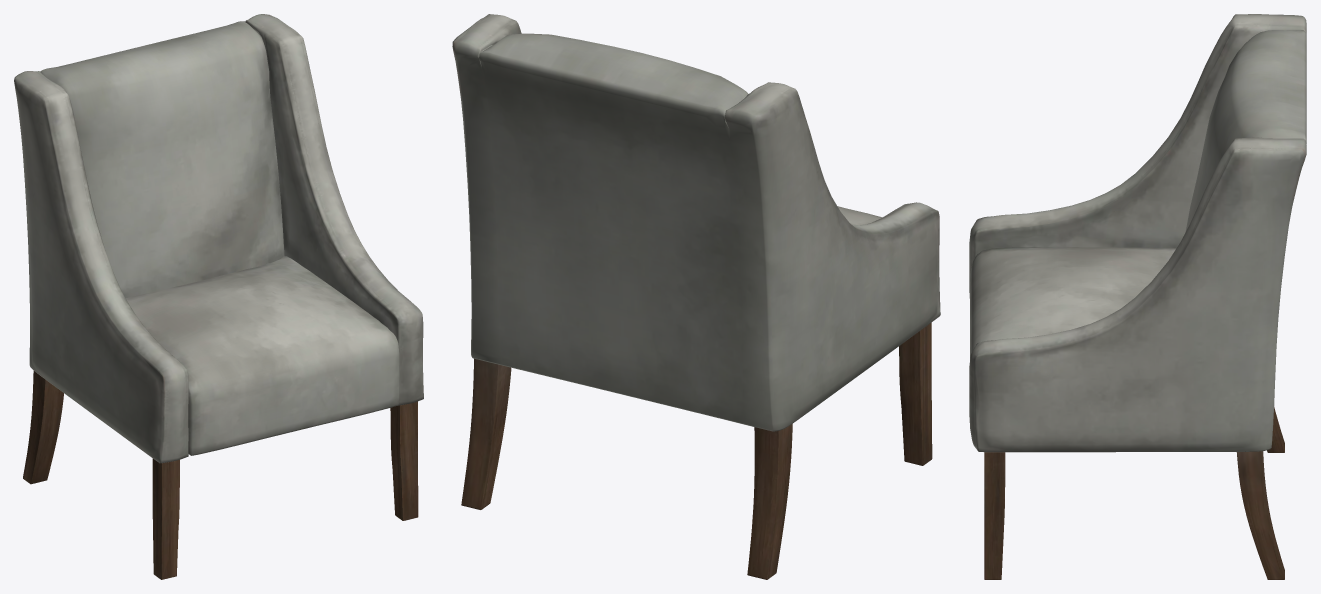
Rendered from B07F4D1TDW.glb.
3 views of the same model, side by side, from view 1: azimuth 30°, elevation 25°; view 2: azimuth 150°, elevation 25°; view 3: azimuth 270°, elevation 25° (orthographic). The views are drawn at different scales.
Visible parts, largest first — view 1: B07F4D1TDW; view 2: B07F4D1TDW; view 3: B07F4D1TDW.
Boxes of the visible parts, bbox=[...] form: B07F4D1TDW: bbox=[14, 14, 423, 579]; B07F4D1TDW: bbox=[452, 14, 940, 579]; B07F4D1TDW: bbox=[969, 14, 1306, 579].
Size of the model in its own units: 0.6286 by 0.8953 by 0.6286.
Materials: 1 (1 with a texture image).
